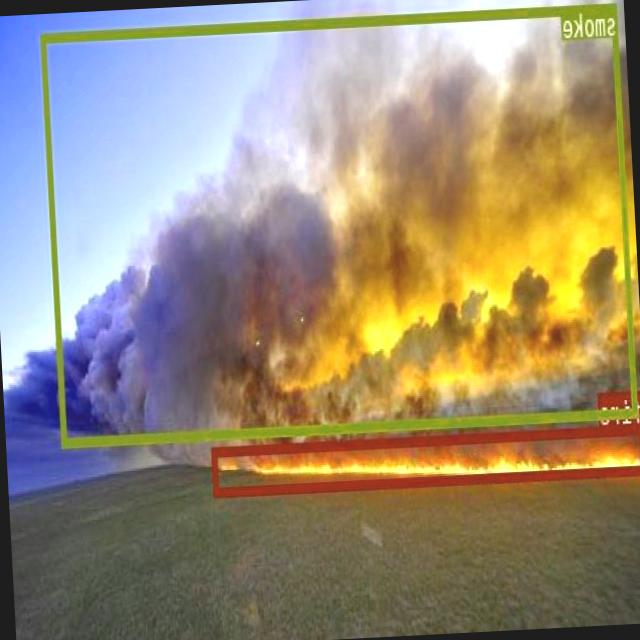fire: (213, 423, 640, 496)
smoke: (41, 2, 640, 446)
